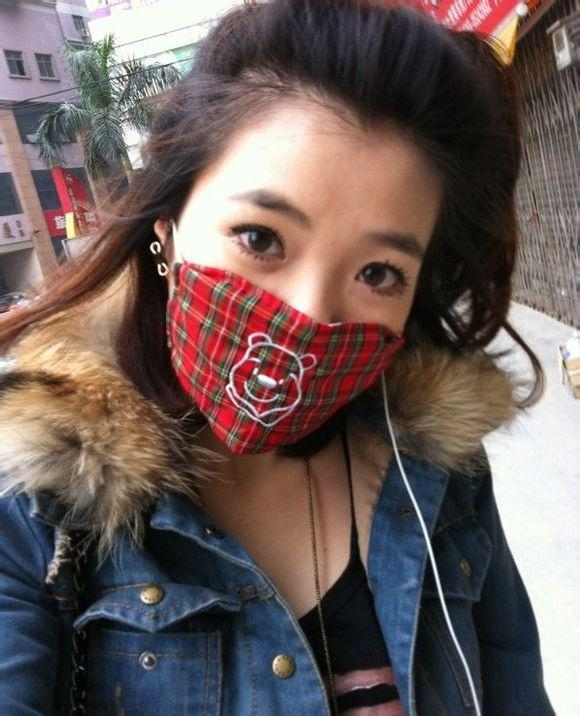WRONG: (165, 190, 414, 441)
